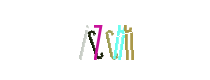7: (57, 0, 137, 80)
C: (54, 0, 134, 80), (64, 0, 144, 80)
I: (48, 0, 128, 80)
K: (79, 0, 159, 80), (81, 0, 161, 80)
